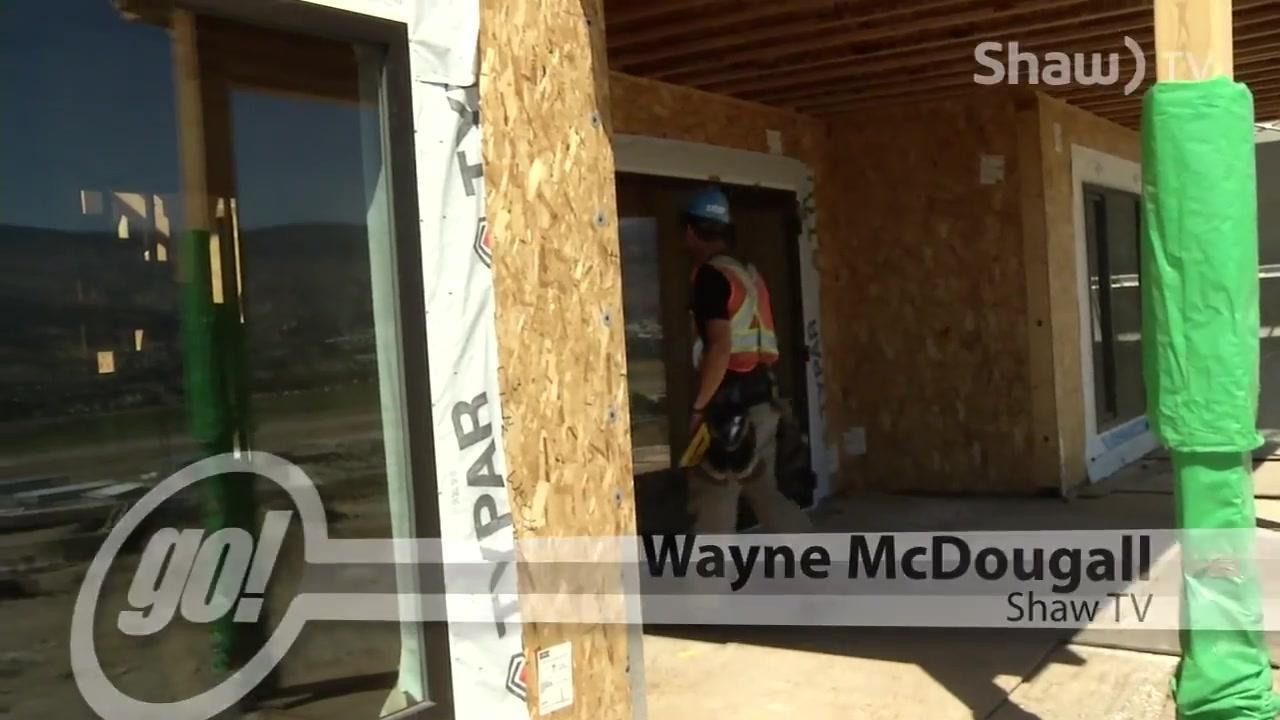vest: (691, 256, 780, 373)
